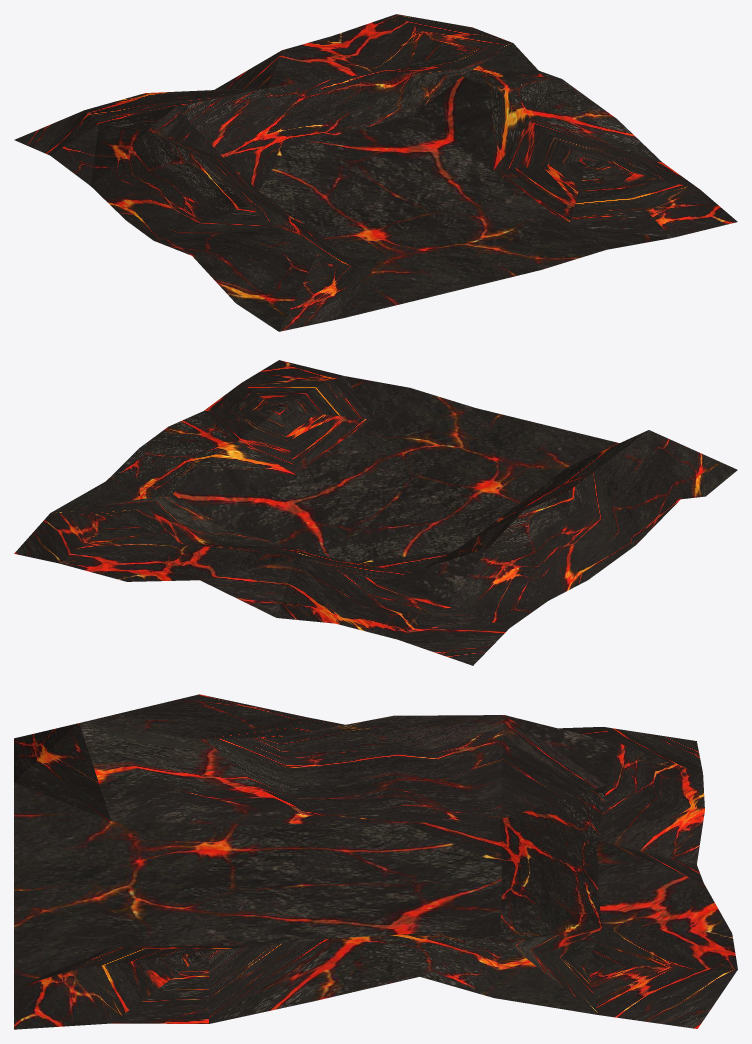
Rendered from HellFinish.fbx.
3 renders of one model, top to bottom at view 1: azimuth 30°, elevation 25°; view 2: azimuth 150°, elevation 25°; view 3: azimuth 270°, elevation 25°, orthographic. The views are drawn at different scales.
Visible parts, largest first — view 1: Hellfinish; view 2: Hellfinish; view 3: Hellfinish.
Part boxes in pixels (x1=…): Hellfinish: x1=14, y1=14, x2=737, y2=331; Hellfinish: x1=14, y1=360, x2=737, y2=665; Hellfinish: x1=14, y1=694, x2=737, y2=1029.
Bounding box in the file's own units: 41.49 × 4.36 × 42.41.
